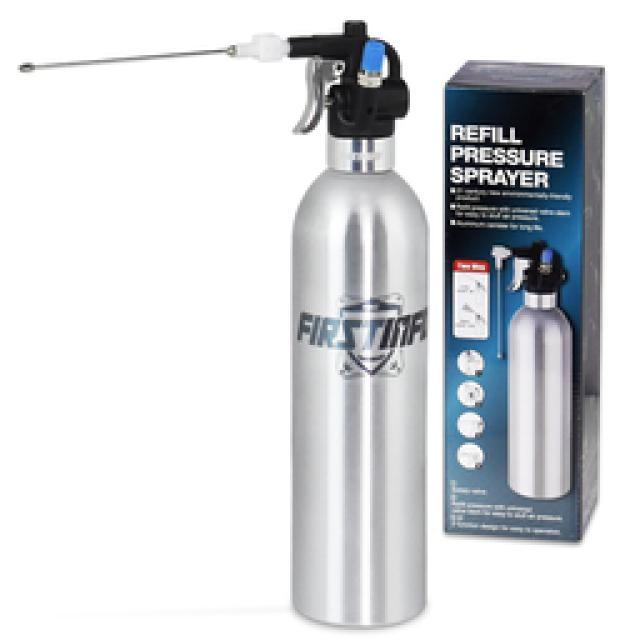zat_kimia: (208, 25, 612, 615)
